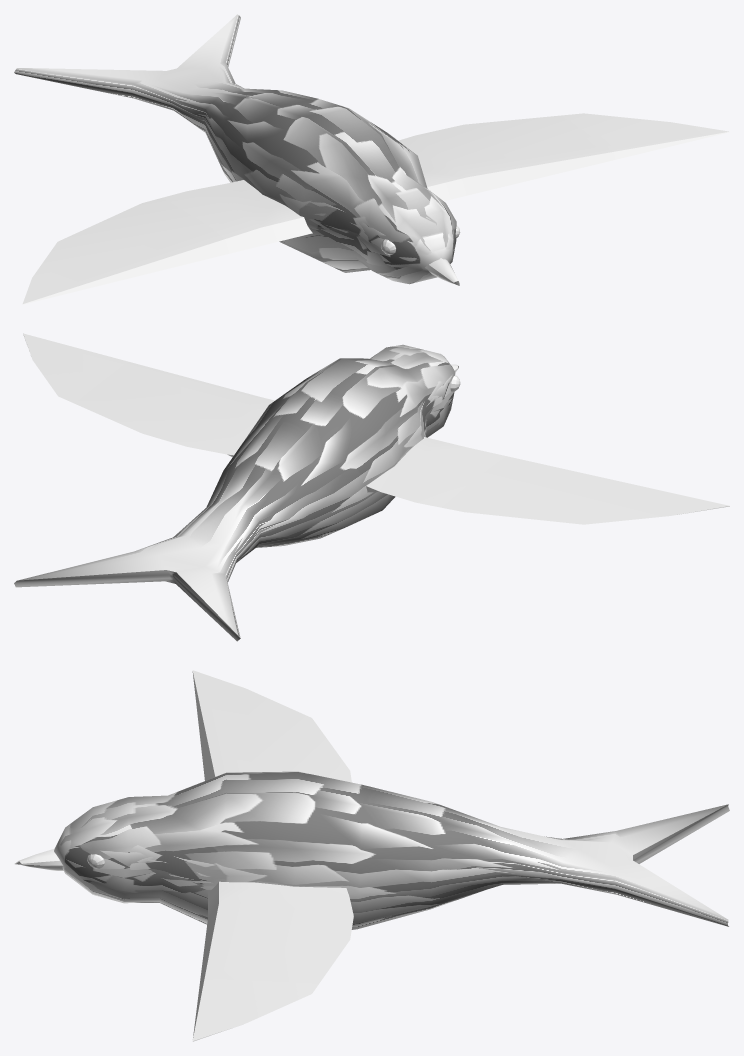
File: BirdAvatar_HiRes.fbx
3 views of the same model, one above another, from view 1: azimuth 30°, elevation 25°; view 2: azimuth 150°, elevation 25°; view 3: azimuth 270°, elevation 25° (orthographic). The views are drawn at different scales.
Visible parts, largest first — view 1: BirdHead_Far, wingRight, wingLeft; view 2: BirdHead_Far, wingRight, wingLeft, BirdHead_Med2; view 3: BirdHead_Far, wingLeft, wingRight, BirdHead_Med2.
Part boxes in pixels (x1=…): BirdHead_Far: x1=14, y1=14, x2=460, y2=285; wingRight: x1=22, y1=180, x2=312, y2=304; wingLeft: x1=398, y1=113, x2=729, y2=201; BirdHead_Far: x1=18, y1=344, x2=460, y2=637; wingRight: x1=366, y1=437, x2=729, y2=524; wingLeft: x1=23, y1=333, x2=274, y2=456; BirdHead_Med2: x1=14, y1=570, x2=240, y2=641; BirdHead_Far: x1=14, y1=771, x2=728, y2=929; wingLeft: x1=192, y1=881, x2=353, y2=1041; wingRight: x1=192, y1=670, x2=351, y2=782; BirdHead_Med2: x1=633, y1=804, x2=729, y2=863.
Size of the model in its own units: 43.31 by 7.9 by 35.31.
